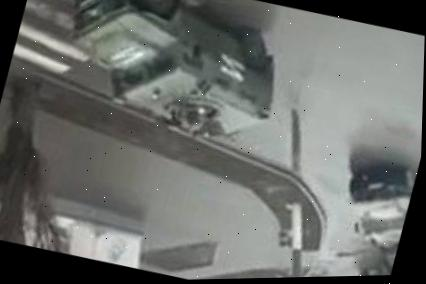armored_car: (49, 0, 292, 158), (335, 156, 418, 248), (348, 248, 395, 276)
